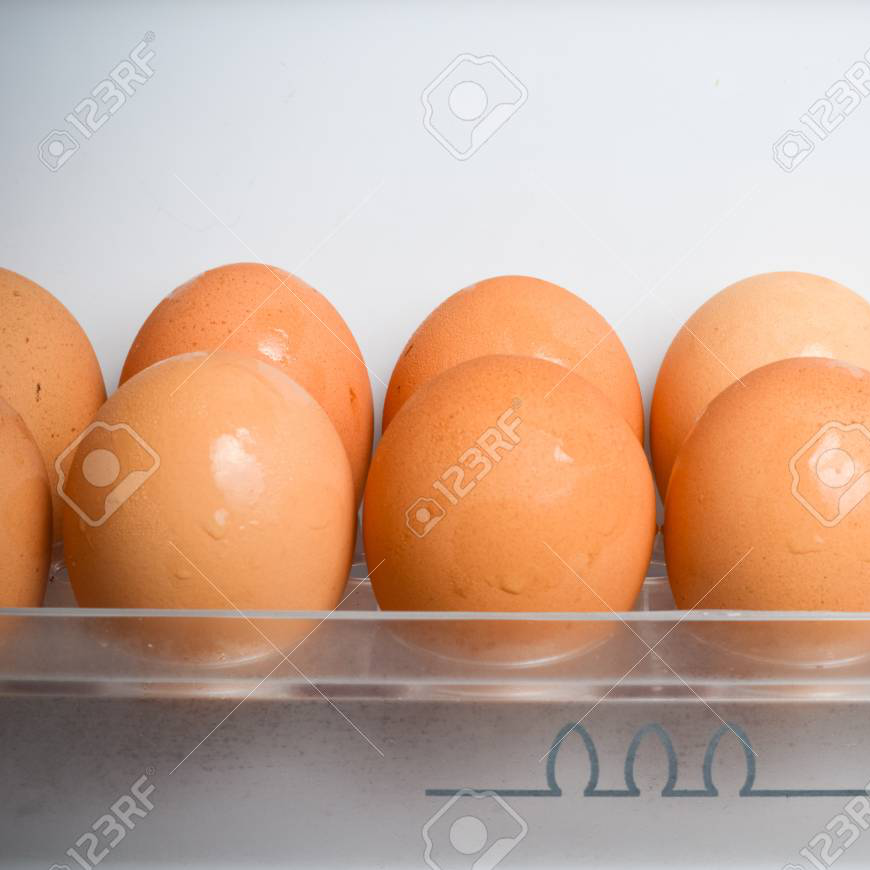egg: (3, 263, 870, 662)
